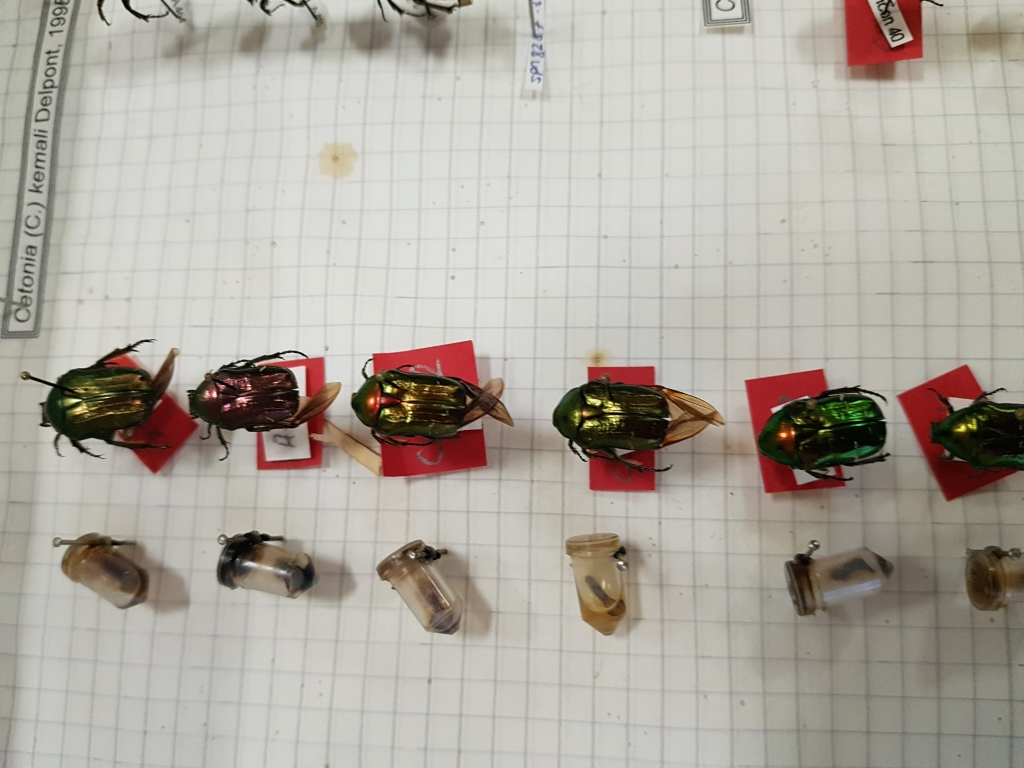Cetonia_kemali: (547, 373, 733, 477), (345, 351, 519, 450)
